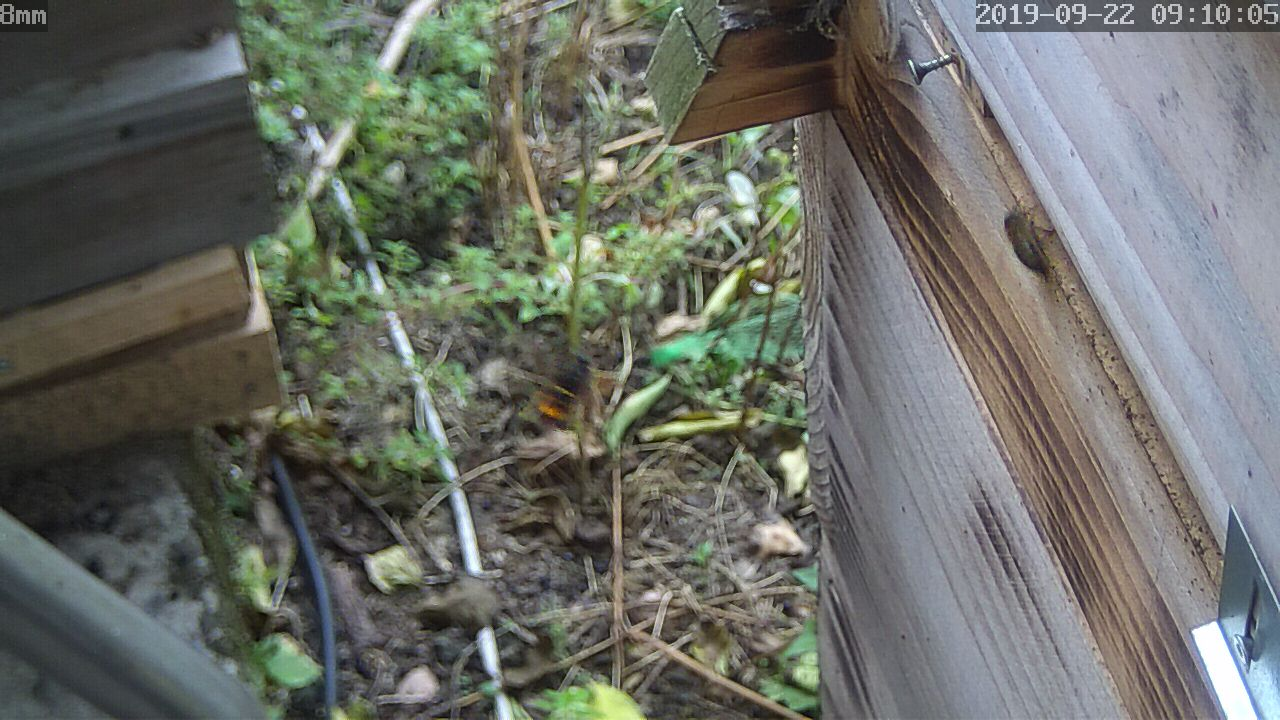bee: (996, 191, 1070, 277)
hornet: (519, 344, 608, 433)
